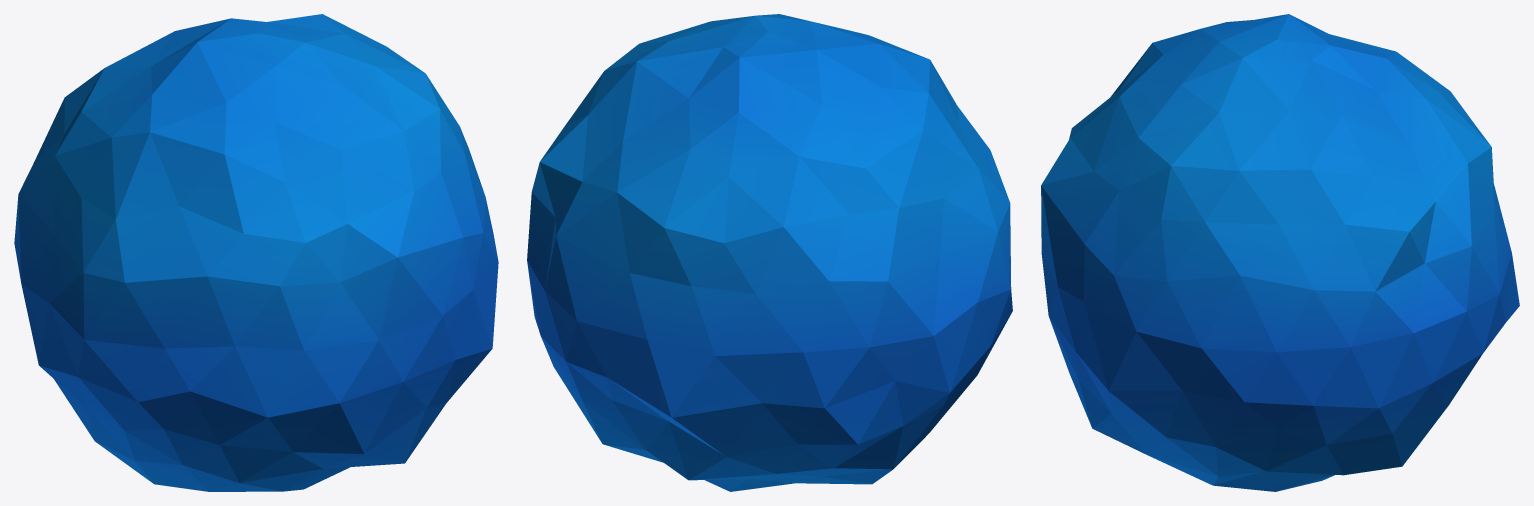
Rendered from Neptune.fbx.
3 renders of one model, left to right at view 1: azimuth 30°, elevation 25°; view 2: azimuth 150°, elevation 25°; view 3: azimuth 270°, elevation 25°, orthographic. The views are drawn at different scales.
Parts seen in each view (by area): view 1: Neptune; view 2: Neptune; view 3: Neptune.
Part boxes in pixels (<box>): Neptune: <box>14,14,498,491</box>; Neptune: <box>527,14,1012,491</box>; Neptune: <box>1041,14,1519,491</box>.
Size of the model in its own units: 20 by 20.36 by 20.36.
